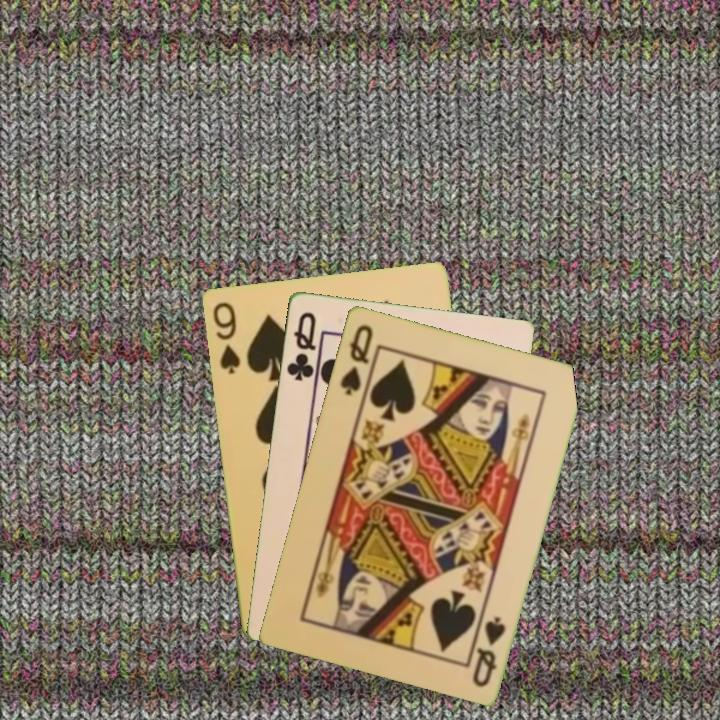9s: (209, 298, 243, 377)
Qc: (282, 308, 319, 383)
Qs: (468, 612, 508, 690), (336, 320, 375, 398)
